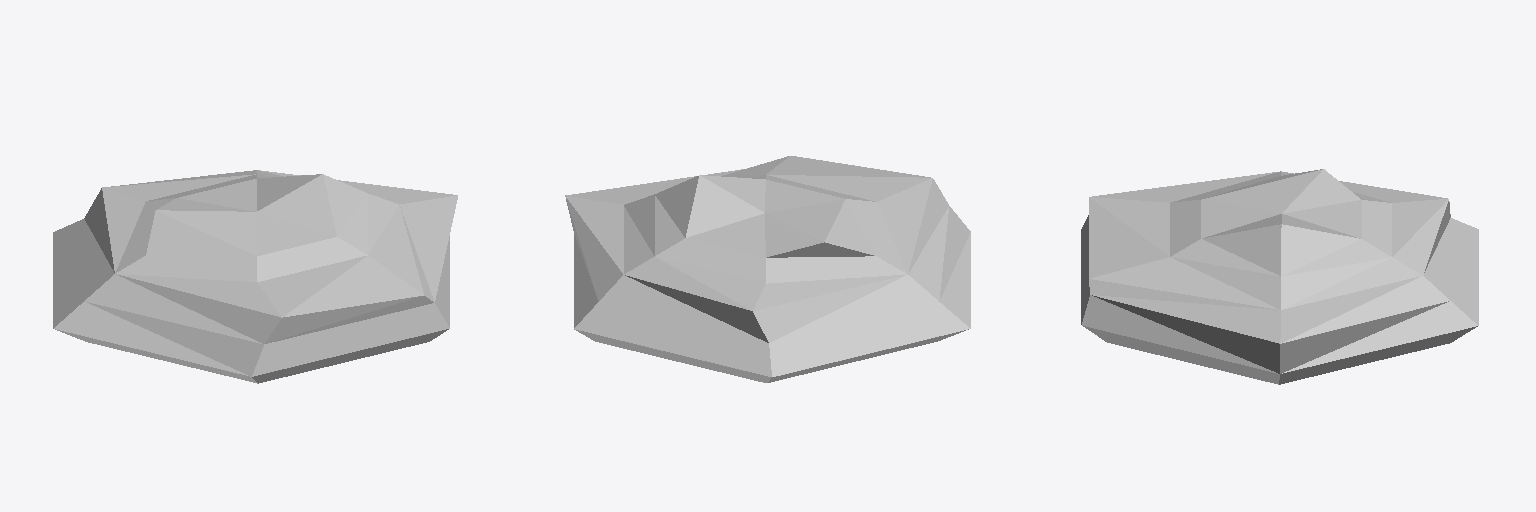
Rendered from HoneyTowerProjectile4.obj.
3 views of the same model, side by side, from view 1: azimuth 30°, elevation 25°; view 2: azimuth 150°, elevation 25°; view 3: azimuth 270°, elevation 25° (orthographic).
Parts seen in each view (by area): view 1: HoneyProjectile; view 2: HoneyProjectile; view 3: HoneyProjectile.
Boxes of the visible parts, x1=… form: HoneyProjectile: x1=53, y1=170, x2=457, y2=383; HoneyProjectile: x1=565, y1=156, x2=970, y2=382; HoneyProjectile: x1=1081, y1=169, x2=1478, y2=384.
Bounding box in the file's own units: 2.15 × 0.6581 × 1.82.